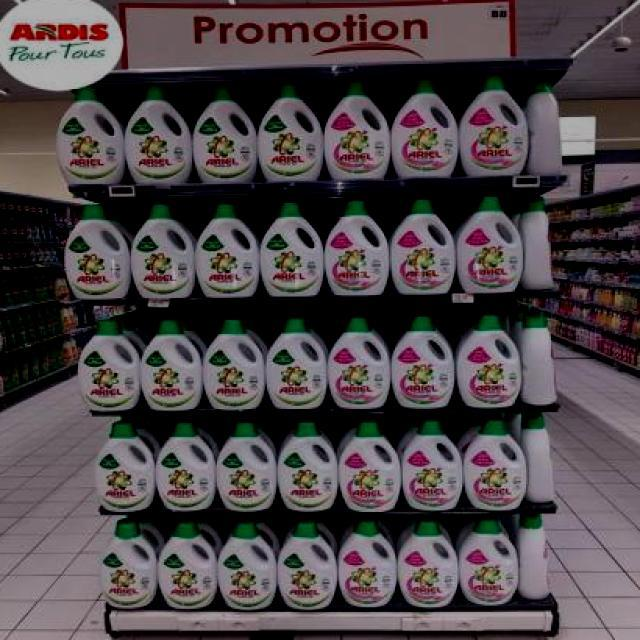Detergent: (326, 70, 394, 180), (453, 190, 526, 292), (122, 82, 194, 182), (386, 77, 458, 177), (452, 304, 520, 409), (458, 72, 524, 178), (57, 85, 126, 185), (258, 198, 327, 298), (212, 412, 280, 512), (131, 205, 203, 299), (59, 204, 130, 299), (193, 82, 260, 182), (390, 190, 454, 294), (461, 414, 530, 510), (336, 412, 402, 512), (323, 315, 393, 409), (399, 415, 466, 512), (264, 312, 330, 410), (273, 514, 340, 610), (454, 514, 522, 608), (274, 410, 336, 513), (387, 314, 454, 409), (203, 313, 268, 410), (74, 322, 144, 412), (198, 205, 266, 296), (394, 514, 461, 606), (328, 194, 388, 296), (98, 513, 158, 612), (218, 520, 280, 614), (142, 314, 202, 411), (153, 522, 219, 610), (336, 516, 398, 608), (154, 421, 216, 509), (96, 422, 157, 511)
